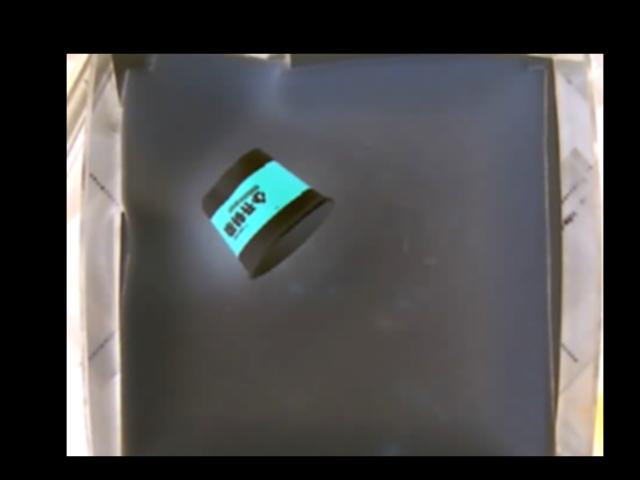Cup: (198, 148, 335, 275)
